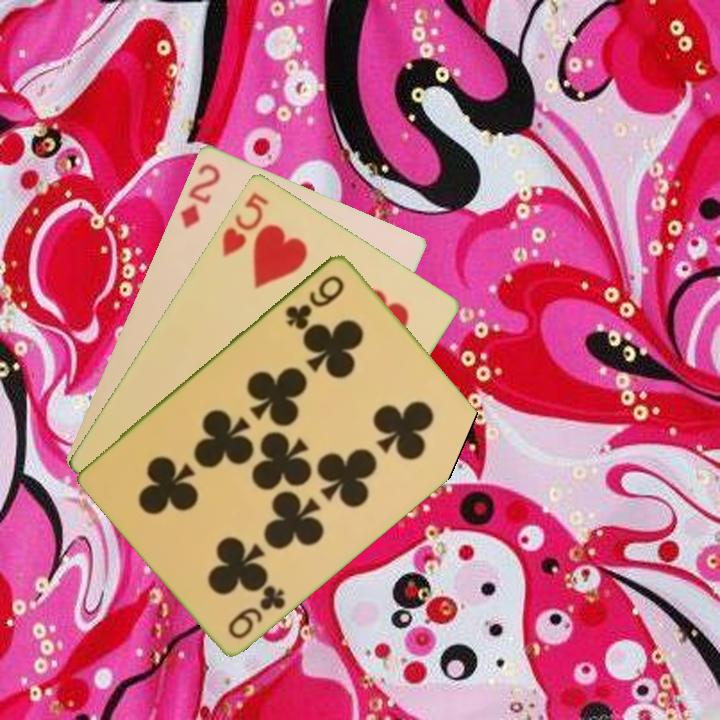2d: (176, 159, 223, 231)
5h: (218, 187, 272, 259)
9c: (282, 270, 348, 331), (224, 581, 289, 642)
